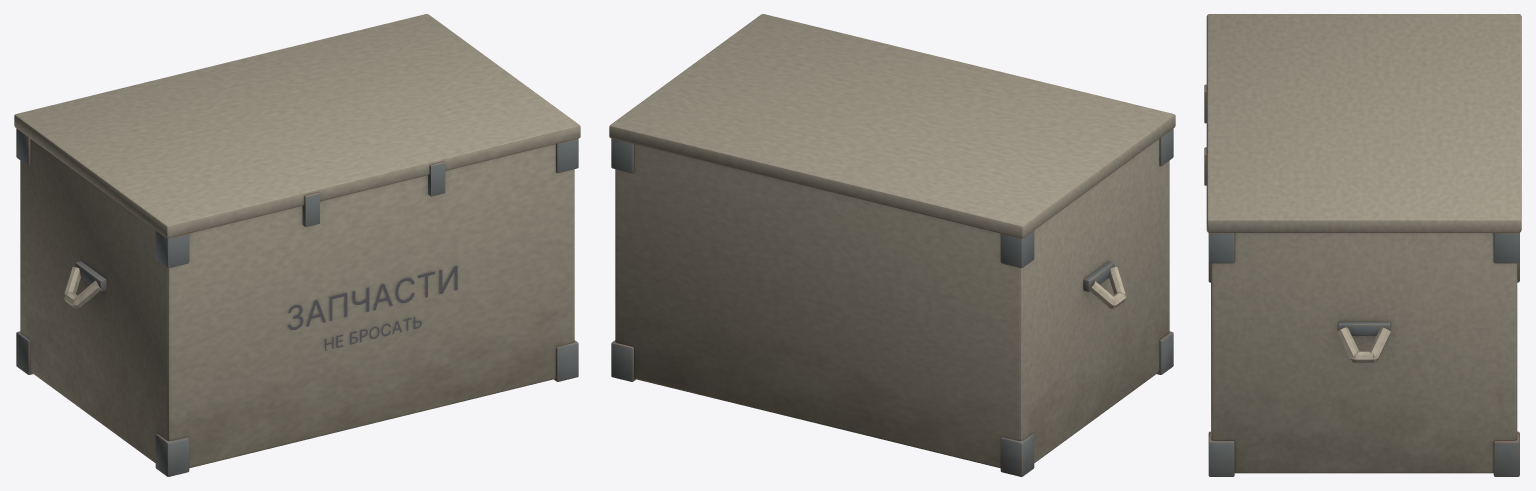
File: soviet_crate_large.glb
3 renders of one model, left to right at view 1: azimuth 30°, elevation 25°; view 2: azimuth 150°, elevation 25°; view 3: azimuth 270°, elevation 25°, orthographic. The views are drawn at different scales.
Visible parts, largest first — view 1: soviet_crate_large; view 2: soviet_crate_large; view 3: soviet_crate_large.
Boxes of the visible parts, x1,y1,x2,y2 form: soviet_crate_large: [14, 14, 580, 476]; soviet_crate_large: [609, 14, 1175, 476]; soviet_crate_large: [1204, 14, 1521, 476].
Size of the model in its own units: 1.24 by 0.652 by 0.7255.
Materials: 1 (1 with a texture image).
